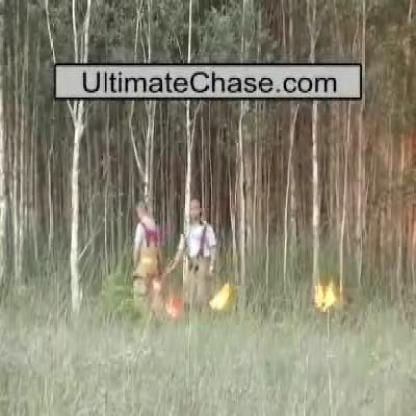foggia-v2-map80-epoch100 - v1 4323: (314, 284, 336, 311), (210, 283, 229, 312)
